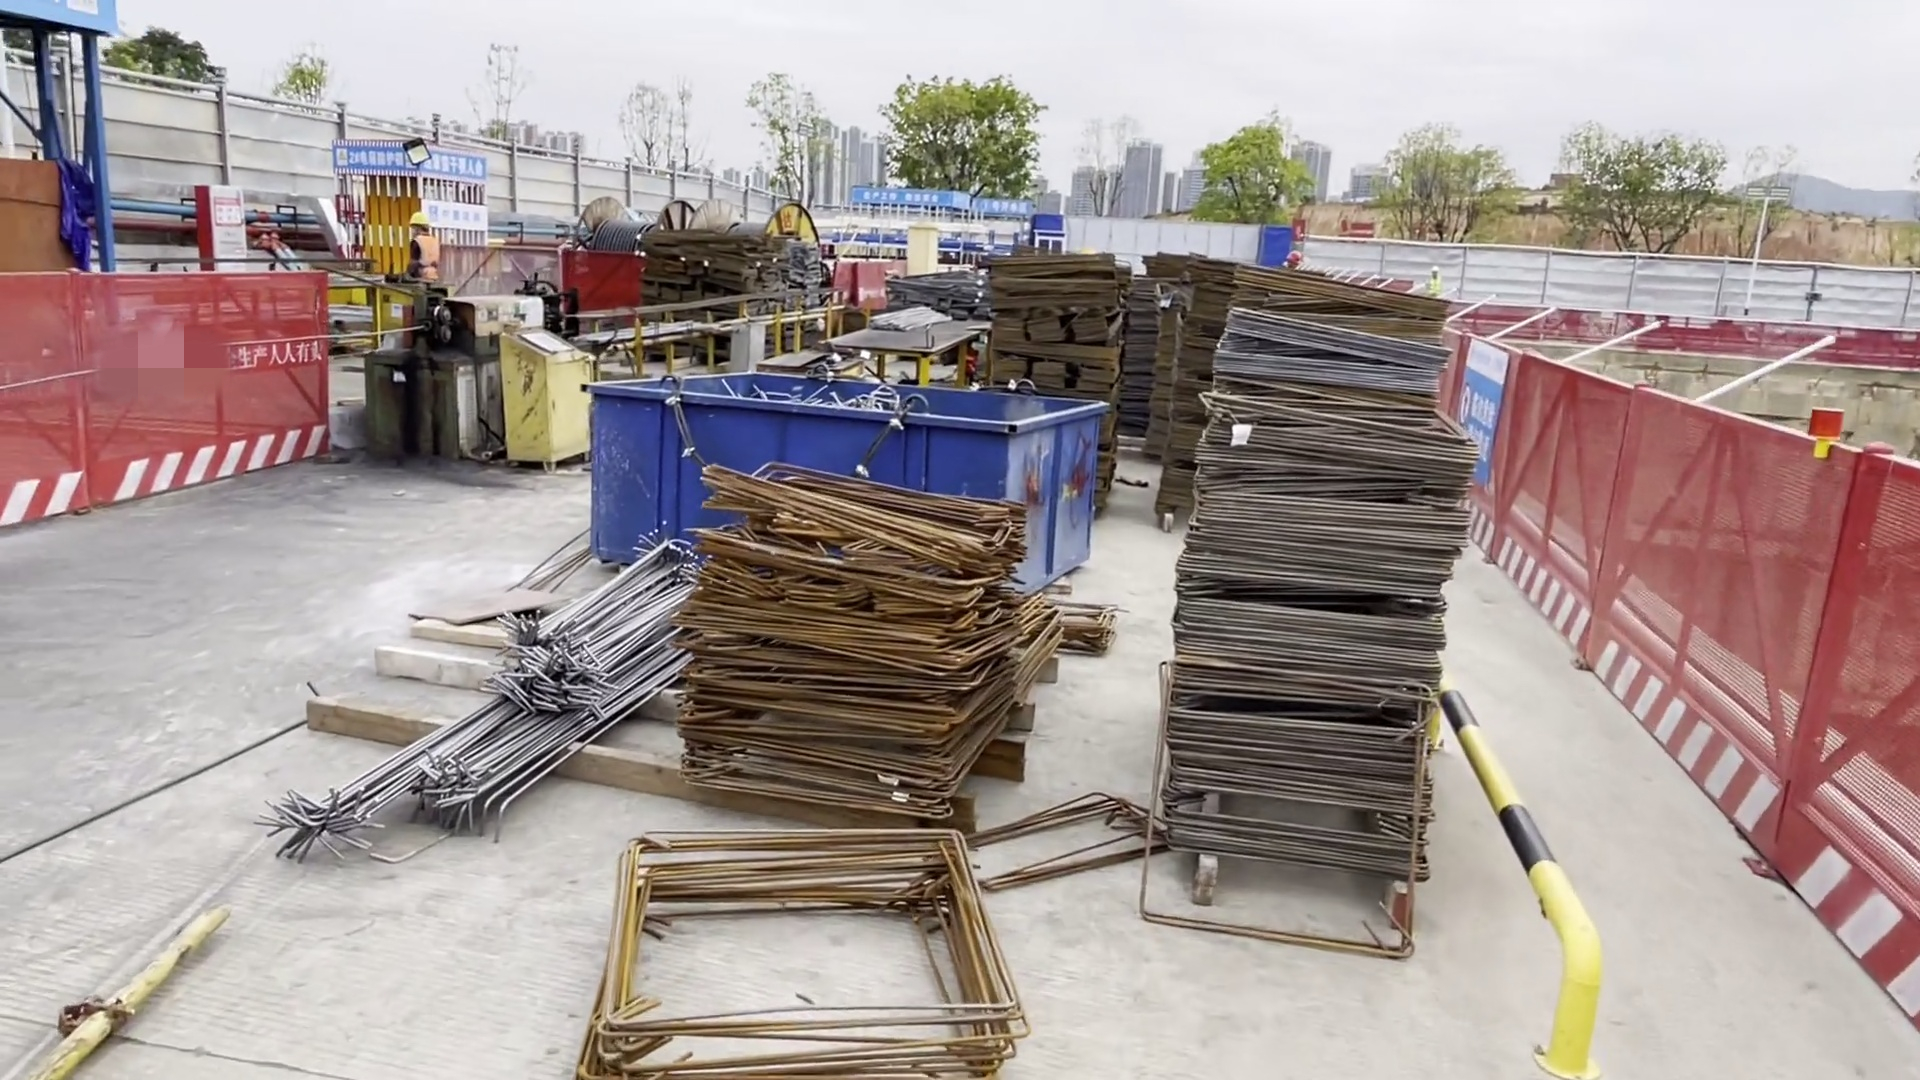ebox: (902, 231, 935, 270)
fence: (1613, 373, 1920, 1013), (4, 269, 338, 512), (1442, 333, 1612, 672), (1470, 297, 1920, 375)
helmet: (406, 208, 435, 228), (1283, 250, 1298, 262)
hopper: (591, 367, 1089, 593)
person: (401, 206, 437, 298), (1424, 267, 1440, 299)
rebar: (276, 540, 700, 853)
slogan: (336, 139, 482, 182), (1460, 349, 1504, 482), (857, 188, 1030, 223)
vest: (420, 233, 442, 273)
